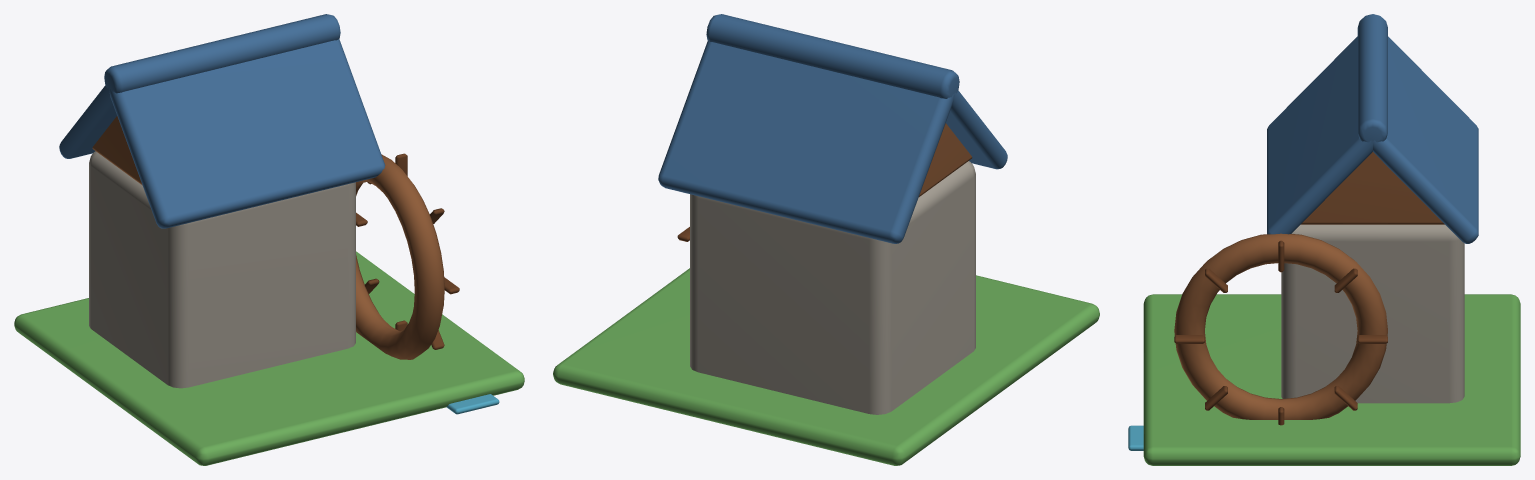
3 views of the same model, side by side, from view 1: azimuth 30°, elevation 25°; view 2: azimuth 150°, elevation 25°; view 3: azimuth 270°, elevation 25° (orthographic). The views are drawn at different scales.
Visible parts, largest first — view 1: Cube; view 2: Cube; view 3: Cube.
Part boxes in pixels (x1,y1,x2,y2): Cube: [14, 14, 524, 465]; Cube: [553, 14, 1099, 465]; Cube: [1128, 14, 1520, 465].
Bounding box in the file's own units: 0.74 × 0.672 × 0.77.
